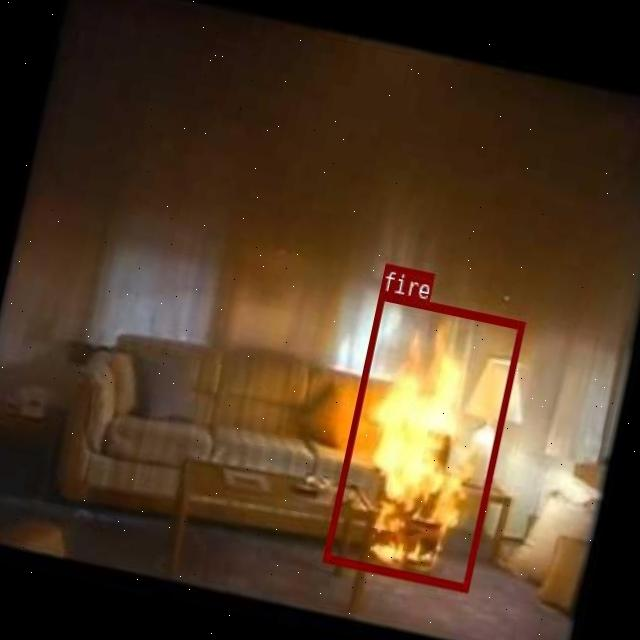fire: (322, 290, 524, 590)
